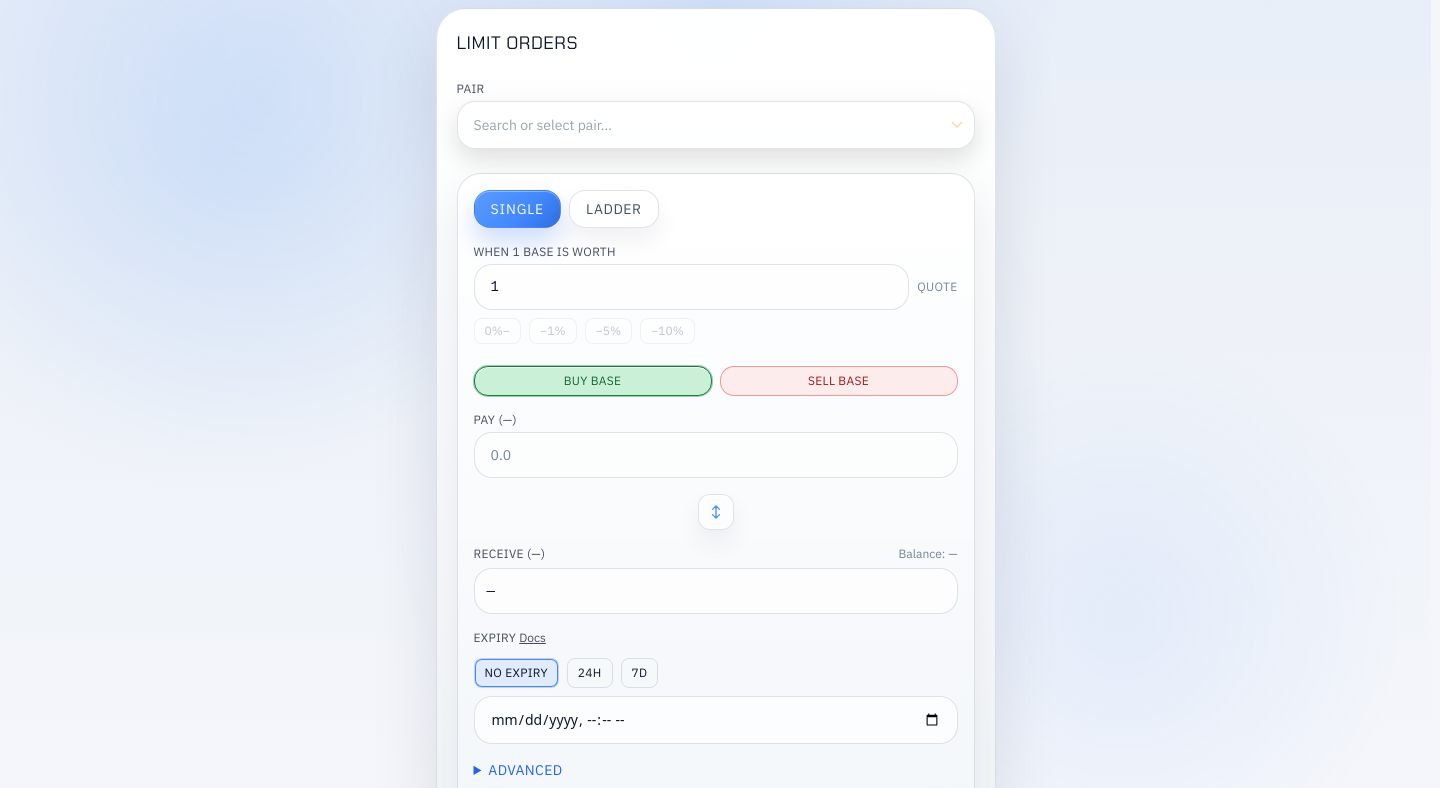
Test: LimitOrdersPage › shows outage banner when tape fails while pair metadata is cached (GitLab #218)
Click the dropdown named "Trading pair" at (716, 125), box x1=456 y1=101 x2=974 y2=149
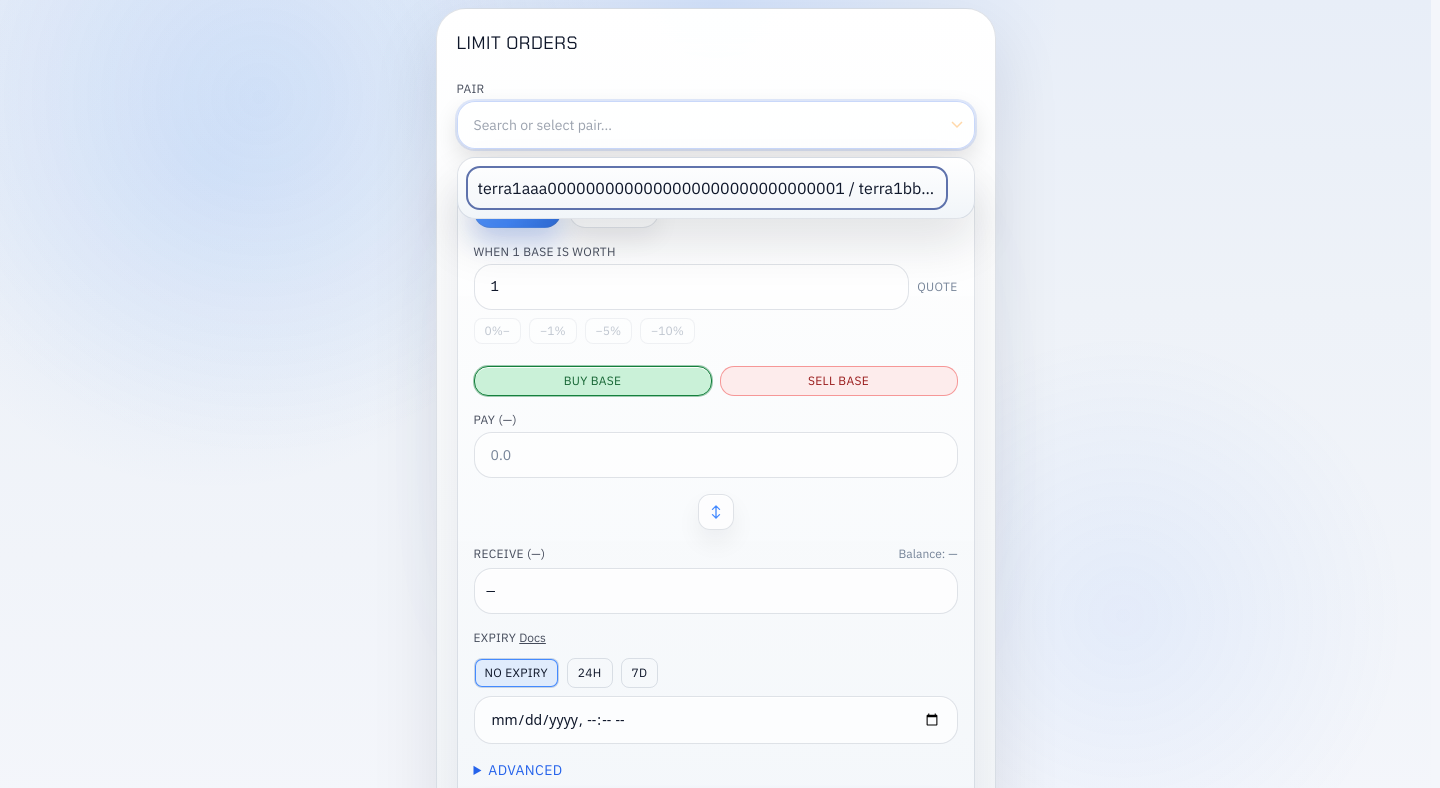
Click the option at (706, 188), box x1=466 y1=166 x2=948 y2=210
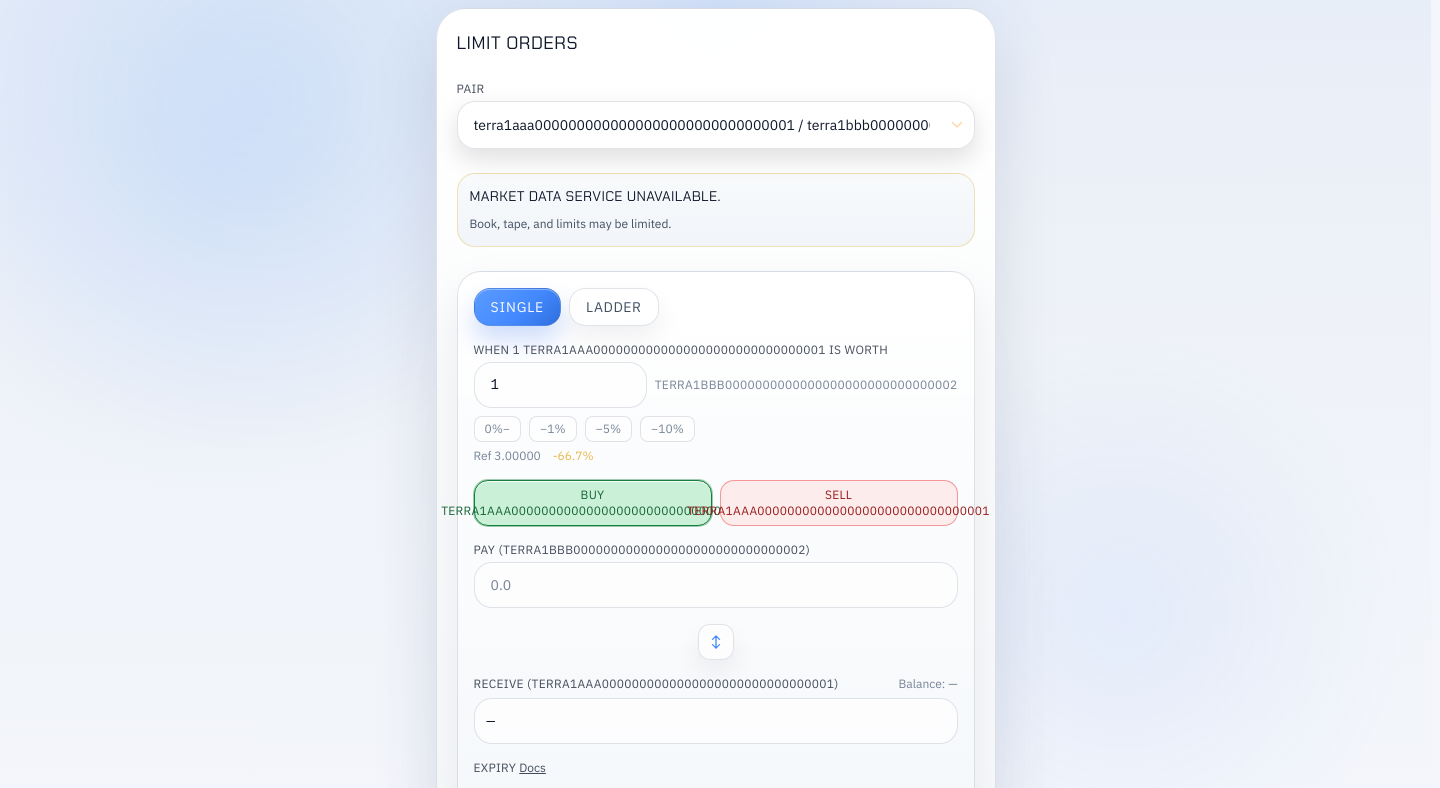
Result: the message "Market data service unavailable. Book, tape, and limits may be limited." is shown at x1=456 y1=173 x2=974 y2=246
